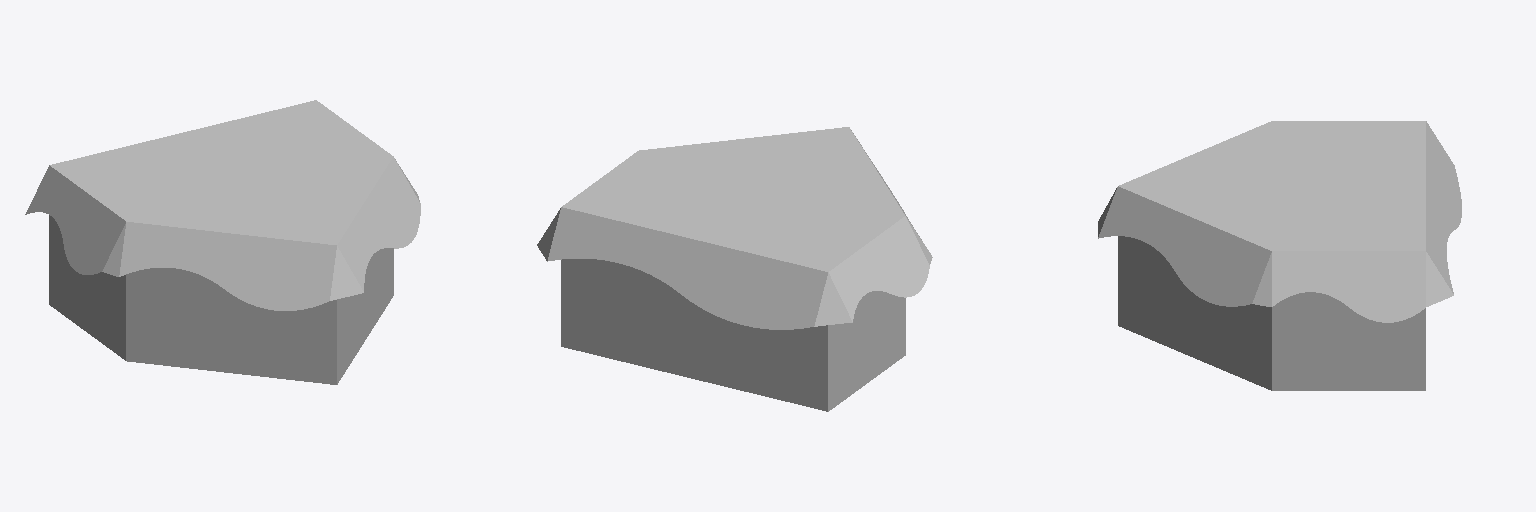
The model's file is blockSnowEnd.obj.
The picture shows the model from 3 angles: view 1: azimuth 30°, elevation 25°; view 2: azimuth 150°, elevation 25°; view 3: azimuth 270°, elevation 25°; orthographic projection.
Parts seen in each view (by area): view 1: blockSnowEnd; view 2: blockSnowEnd; view 3: blockSnowEnd.
Part boxes in pixels (bbox=[...]): blockSnowEnd: bbox=[25, 100, 420, 384]; blockSnowEnd: bbox=[537, 127, 932, 411]; blockSnowEnd: bbox=[1098, 121, 1461, 390].
Bounding box in the file's own units: 1.23 × 0.5 × 1.18.